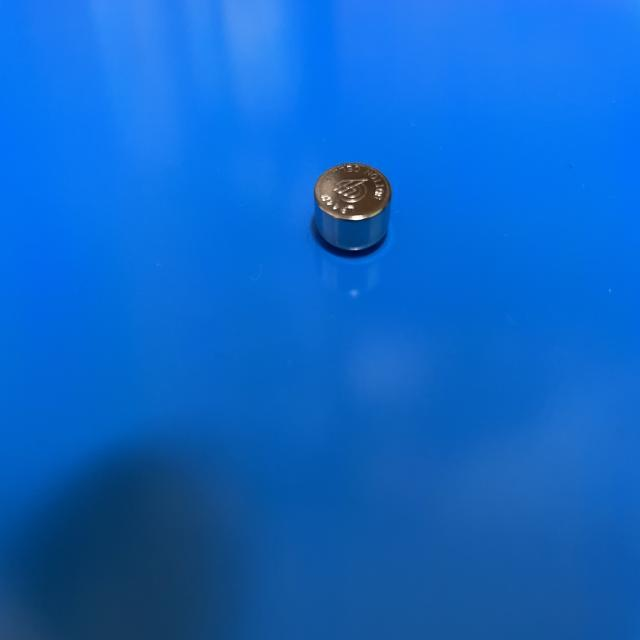COIN: (312, 164, 390, 250)
